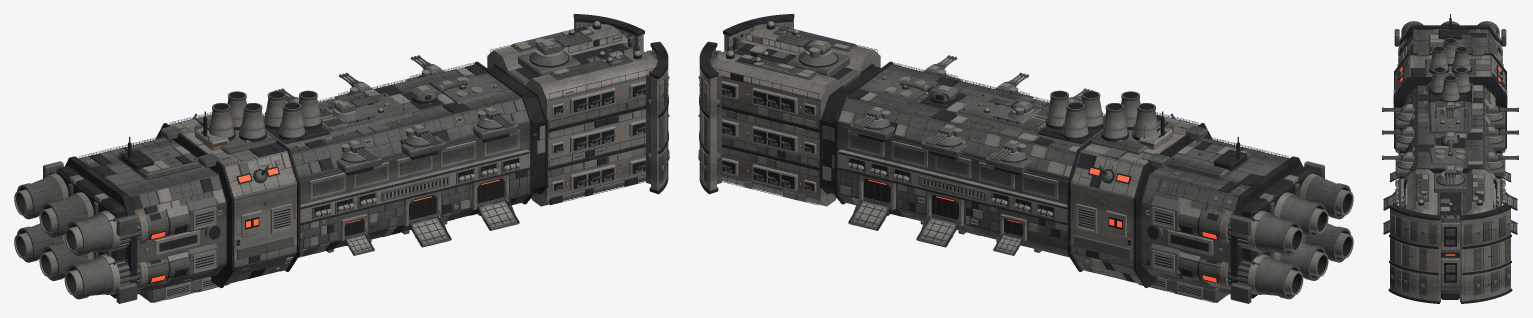
File: 機戰風.glb
The picture shows the model from 3 angles, left to right: view 1: azimuth 30°, elevation 25°; view 2: azimuth 150°, elevation 25°; view 3: azimuth 270°, elevation 25°; orthographic projection. The views are drawn at different scales.
Visible parts, largest first — view 1: hull_mid, hull_light, bow_light, hull_dark, superstructure_mid, engines.thruster.004, engines.thruster.005, engines_dark, hull.hangar_door.004, hull.hangar_door.003, shields_light, bow_mid (+29 smaller); view 2: hull_mid, hull_light, bow_light, hull_dark, superstructure_mid, engines.thruster.002, engines.thruster.003, engines_dark, hull.hangar_door.001, hull.hangar_door, shields_light, bow_mid (+29 smaller); view 3: shields_light, hull_mid, shields_mid, superstructure_mid, bow_light, hull_dark, shields_dark, bow_mid, hull_light, weapons_mid, bow_dark, superstructure_dark (+26 smaller).
Part boxes in pixels (x1,y1,x2,y2): hull_mid: [79, 64, 530, 302]; hull_light: [154, 114, 530, 299]; bow_light: [487, 24, 657, 206]; hull_dark: [76, 61, 548, 287]; superstructure_mid: [118, 74, 497, 180]; engines.thruster.004: [64, 195, 218, 255]; engines.thruster.005: [64, 243, 218, 299]; engines_dark: [56, 156, 136, 298]; hull.hangar_door.004: [404, 191, 451, 247]; hull.hangar_door.003: [472, 174, 519, 230]; shields_light: [574, 18, 668, 190]; bow_mid: [507, 26, 634, 87]; hull_mid: [837, 64, 1288, 302]; hull_light: [837, 114, 1213, 299]; bow_light: [710, 24, 880, 206]; hull_dark: [819, 61, 1291, 287]; superstructure_mid: [870, 74, 1249, 180]; engines.thruster.002: [1149, 195, 1303, 255]; engines.thruster.003: [1149, 243, 1303, 299]; engines_dark: [1231, 156, 1311, 298]; hull.hangar_door.001: [916, 191, 963, 247]; hull.hangar_door: [848, 174, 895, 230]; shields_light: [699, 19, 793, 190]; bow_mid: [733, 26, 860, 87]; shields_light: [1390, 209, 1510, 301]; hull_mid: [1399, 29, 1501, 205]; shields_mid: [1390, 216, 1510, 295]; superstructure_mid: [1417, 35, 1483, 164]; bow_light: [1407, 169, 1493, 286]; hull_dark: [1394, 27, 1506, 200]; shields_dark: [1388, 204, 1512, 303]; bow_mid: [1416, 173, 1484, 291]; hull_light: [1393, 55, 1507, 206]; weapons_mid: [1395, 112, 1505, 176]; bow_dark: [1439, 193, 1461, 299]; superstructure_dark: [1429, 18, 1471, 102].
Size of the model in its own units: 321 by 84.02 by 86.52.
Materials: 7 (4 with a texture image).
